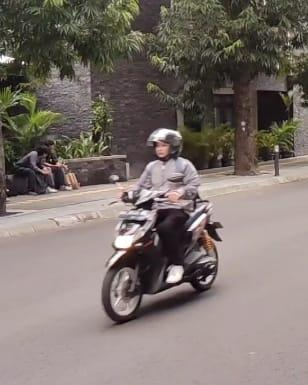helm: (145, 128, 184, 161)
riding: (101, 127, 225, 324)
